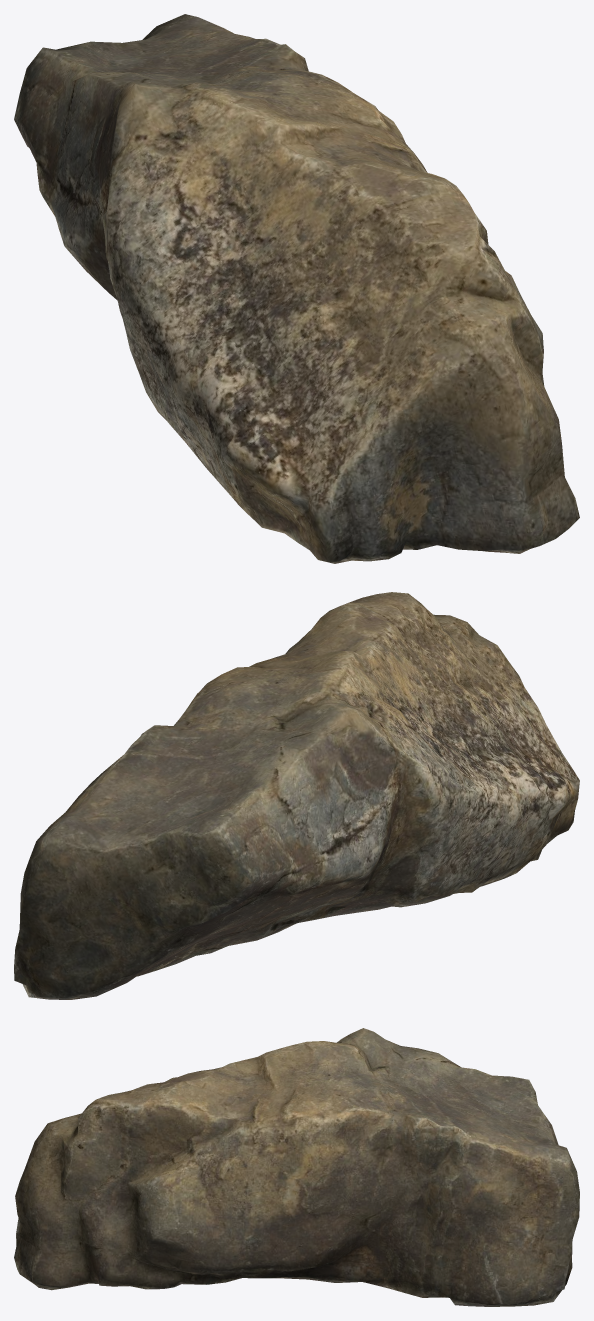
The model's file is stone_01.fbx.
3 renders of one model, top to bottom at view 1: azimuth 30°, elevation 25°; view 2: azimuth 150°, elevation 25°; view 3: azimuth 270°, elevation 25°, orthographic. The views are drawn at different scales.
Parts seen in each view (by area): view 1: Stone_01_Base:polySurface1; view 2: Stone_01_Base:polySurface1; view 3: Stone_01_Base:polySurface1.
Boxes of the visible parts, x1=… form: Stone_01_Base:polySurface1: x1=14, y1=14, x2=579, y2=563; Stone_01_Base:polySurface1: x1=14, y1=592, x2=579, y2=999; Stone_01_Base:polySurface1: x1=14, y1=1028, x2=579, y2=1306.
Size of the model in its own units: 17.97 by 37.91 by 15.3.
1 material, 1 textured.
